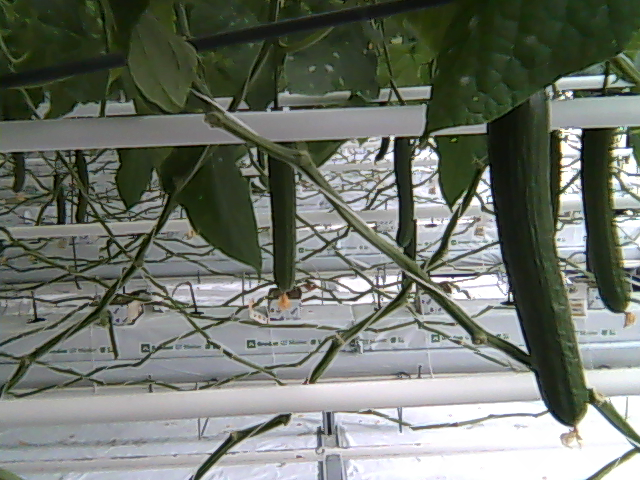concombre: (486, 86, 605, 434)
